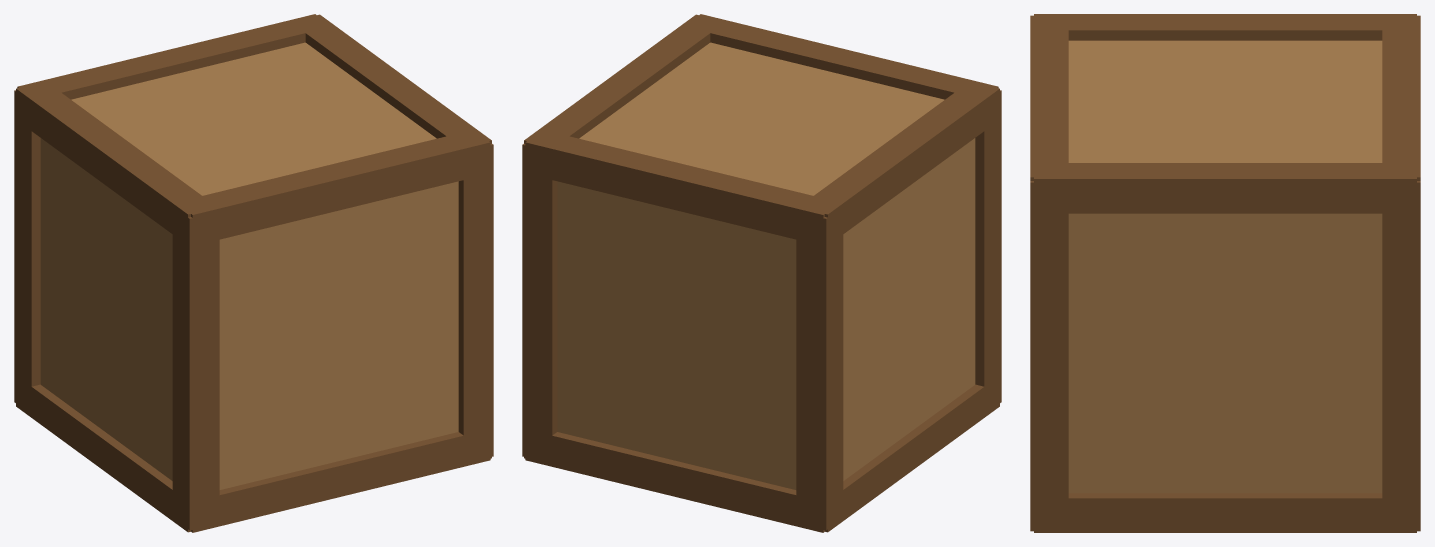
The model's file is wooden_crate.glb.
The picture shows the model from 3 angles, left to right: view 1: azimuth 30°, elevation 25°; view 2: azimuth 150°, elevation 25°; view 3: azimuth 270°, elevation 25°; orthographic projection. The views are drawn at different scales.
Parts seen in each view (by area): view 1: Body, EdgeY (×3), EdgeX (×3), EdgeZ (×3); view 2: Body, EdgeY (×3), EdgeX (×3), EdgeZ (×3); view 3: Body, EdgeZ (×3), EdgeY (×2), EdgeX (×2).
Part boxes in pixels (<box>): Body: <box>40,42,458,489</box>; EdgeY (×3): <box>14,90,493,530</box>; EdgeX (×3): <box>17,14,490,532</box>; EdgeZ (×3): <box>16,14,491,532</box>; Body: <box>557,42,975,489</box>; EdgeY (×3): <box>522,90,1001,530</box>; EdgeX (×3): <box>525,14,998,532</box>; EdgeZ (×3): <box>524,14,999,532</box>; Body: <box>1068,40,1382,493</box>; EdgeZ (×3): <box>1034,14,1416,532</box>; EdgeY (×2): <box>1030,181,1420,529</box>; EdgeX (×2): <box>1030,15,1420,180</box>.
Size of the model in its own units: 1.02 by 1.02 by 1.02.
